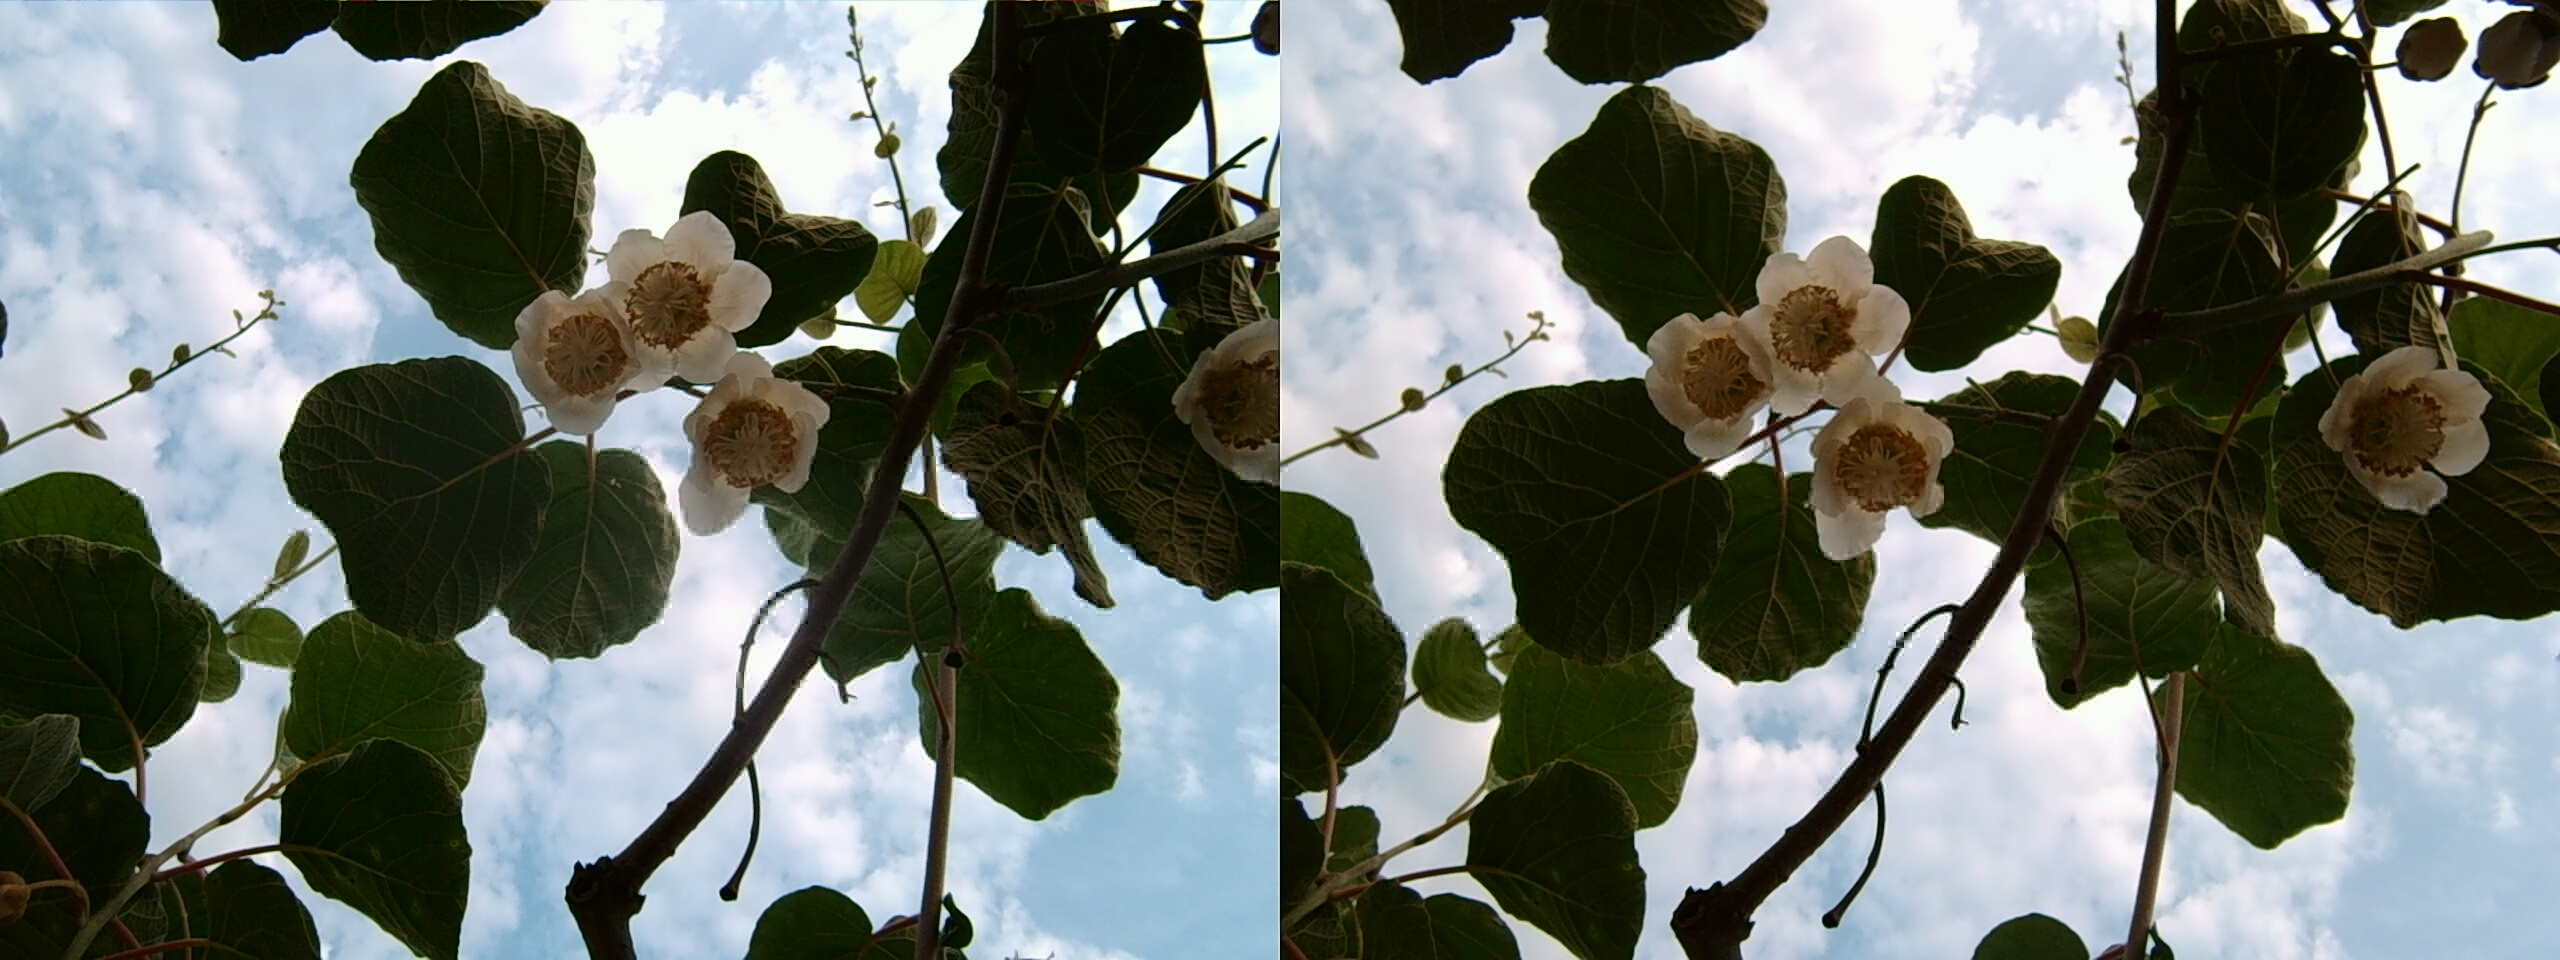flower: (522, 206, 767, 423), (2310, 344, 2495, 516), (1732, 232, 1905, 413), (664, 361, 834, 529), (1796, 389, 1954, 555), (509, 261, 651, 433), (1641, 309, 1773, 451), (1174, 322, 1280, 482)
